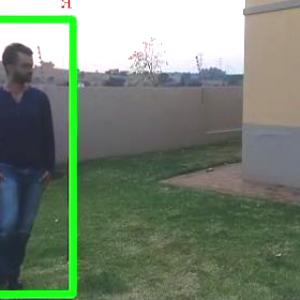follow: (1, 35, 68, 285)
